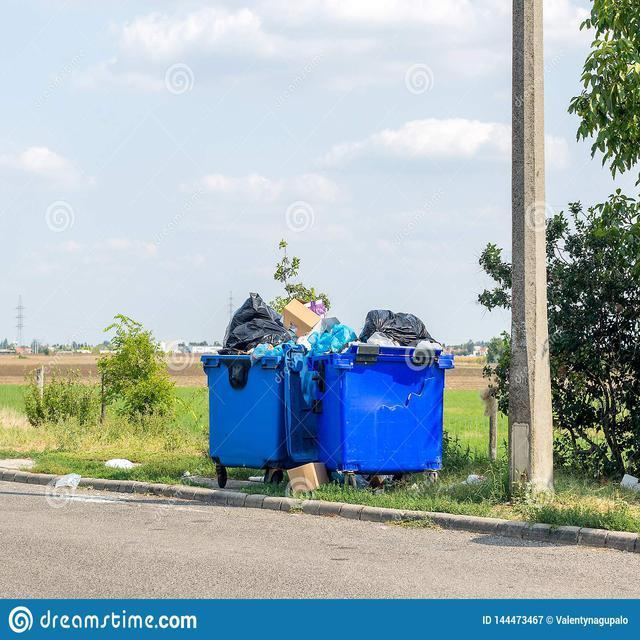garbage: (192, 291, 441, 367), (278, 456, 327, 494), (50, 464, 86, 497), (101, 450, 142, 478), (458, 467, 496, 495)
